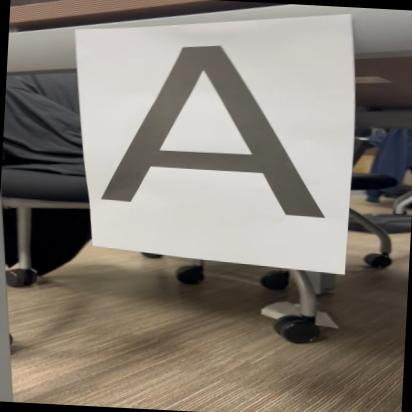seat: (94, 36, 338, 224)
